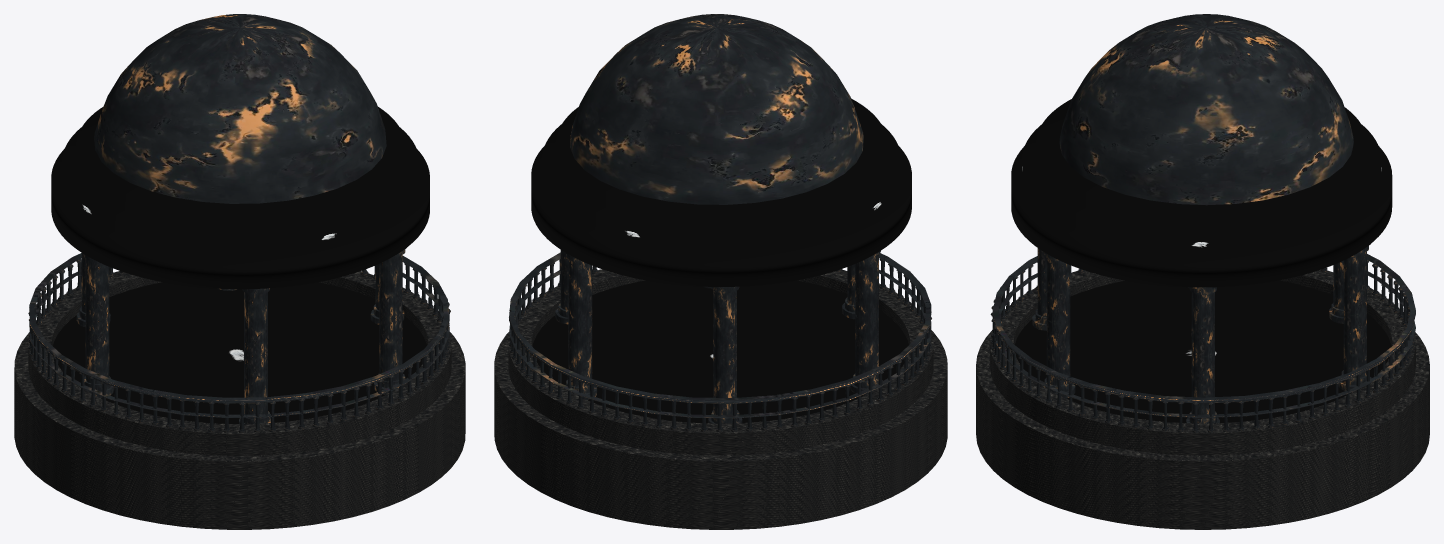
The model's file is dome-draco-transformed.glb.
The picture shows the model from 3 angles, left to right: view 1: azimuth 30°, elevation 25°; view 2: azimuth 150°, elevation 25°; view 3: azimuth 270°, elevation 25°; orthographic projection.
Parts seen in each view (by area): view 1: Cylinder, Floor, Roof, Cylinder.001; view 2: Cylinder, Floor, Roof, Cylinder.001; view 3: Cylinder, Floor, Roof, Cylinder.001.
Boxes of the visible parts, bbox=[...] form: Cylinder: bbox=[51, 107, 429, 423]; Floor: bbox=[14, 271, 465, 529]; Roof: bbox=[94, 14, 386, 203]; Cylinder.001: bbox=[28, 248, 451, 433]; Cylinder: bbox=[531, 98, 911, 423]; Floor: bbox=[494, 269, 947, 529]; Roof: bbox=[570, 14, 863, 204]; Cylinder.001: bbox=[508, 250, 932, 432]; Cylinder: bbox=[1011, 99, 1392, 422]; Floor: bbox=[976, 269, 1429, 529]; Roof: bbox=[1059, 14, 1353, 205]; Cylinder.001: bbox=[990, 244, 1415, 432].
Bounding box in the file's own units: 15.17 × 15.02 × 15.17.
Materials: 4 (4 with a texture image).
